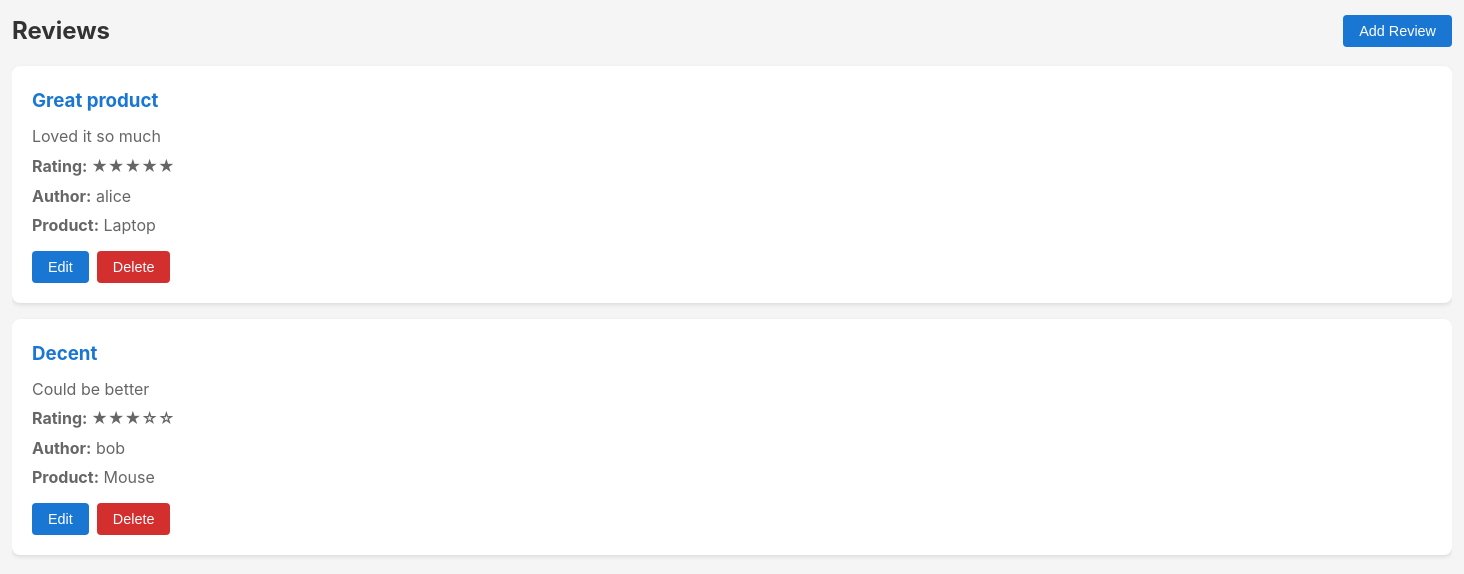
Test: ReviewList › opens edit form when clicking Edit
The image size is (1464, 574).
Expected: the heading "Great product" is shown, [32,89,158,112]
What coordinates should you click on to do the following:
click the button "Edit" below "Laptop"
I would click on:
 (60, 267)
Its box is [32,251,89,283].
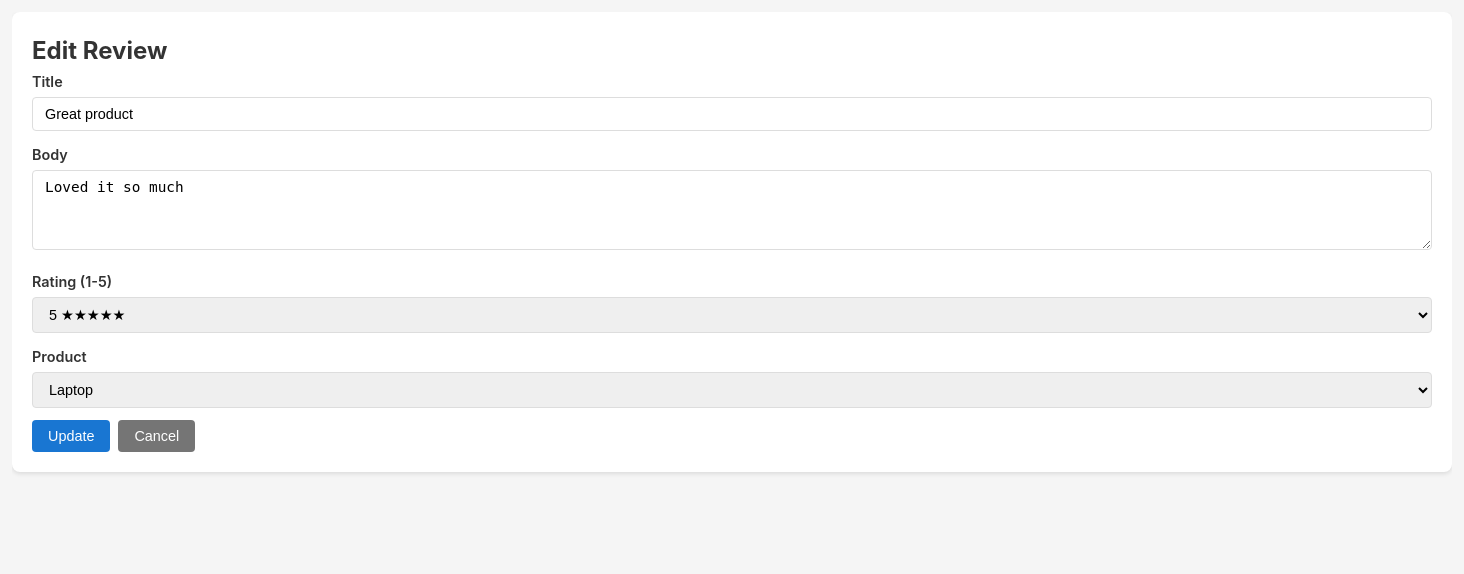
Expected: the heading "Edit Review" is shown, [32,36,167,65]
